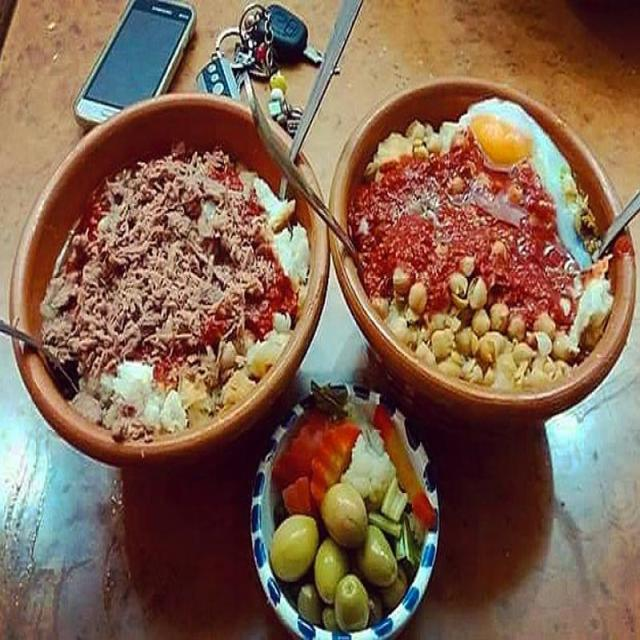Lablabi: (21, 82, 322, 426), (351, 84, 634, 398)
